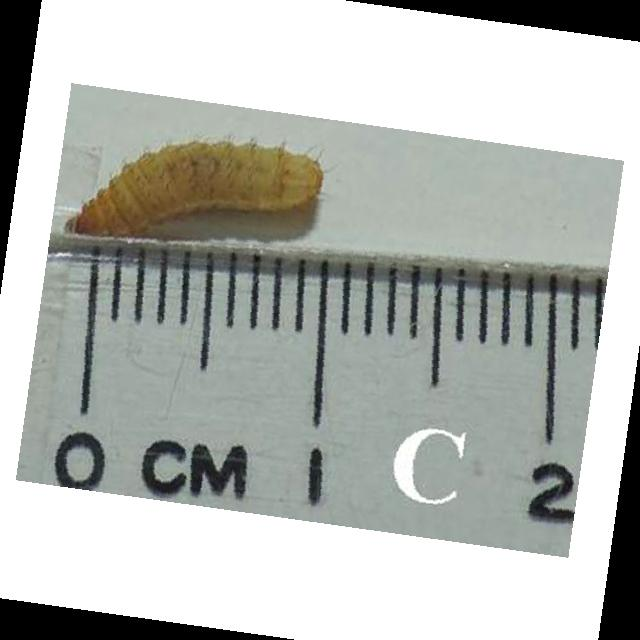Maggot: (64, 143, 323, 242)
